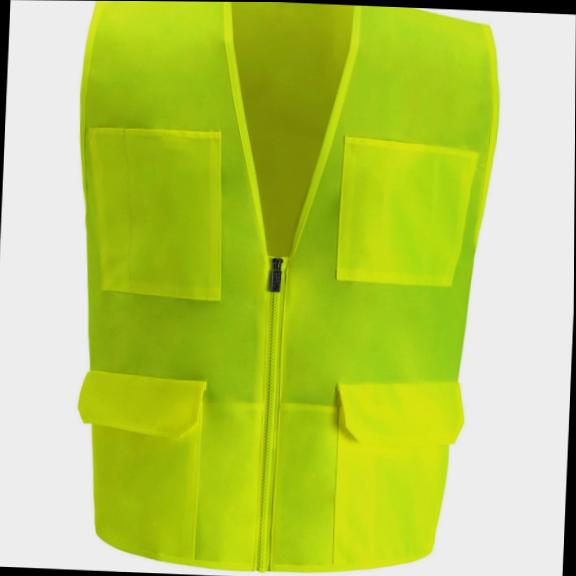safety_vest: (57, 0, 501, 576)
